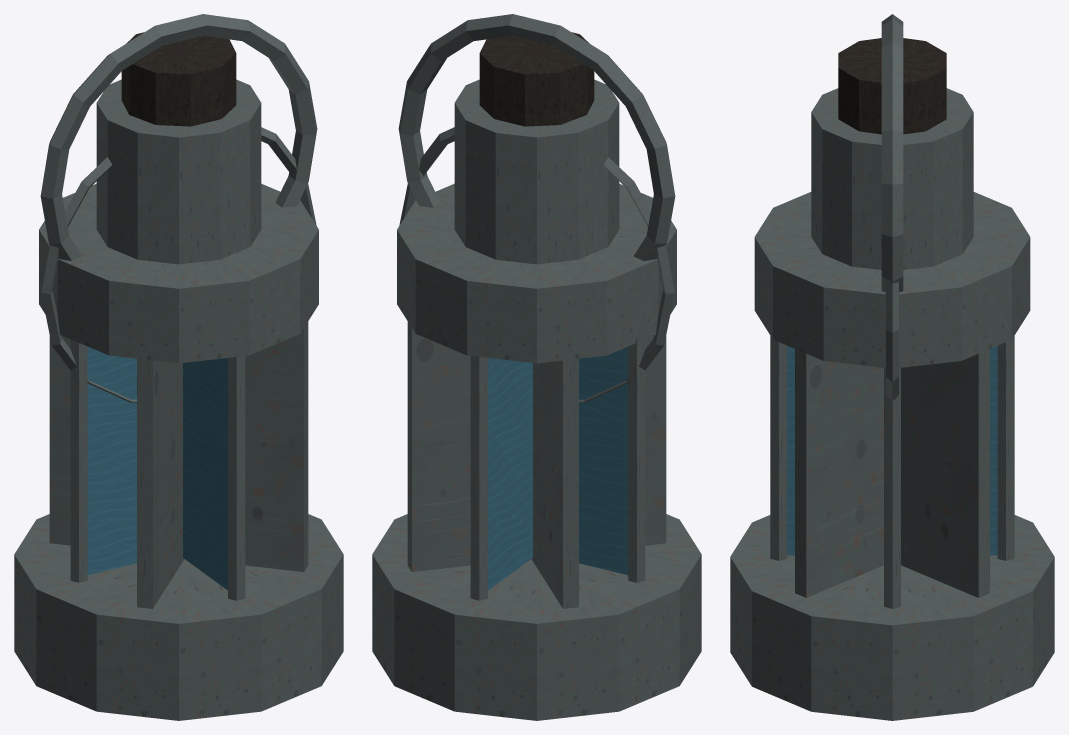
Rendered from pr-008_oil_lantern__off.obj.
3 views of the same model, side by side, from view 1: azimuth 30°, elevation 25°; view 2: azimuth 150°, elevation 25°; view 3: azimuth 270°, elevation 25° (orthographic).
Parts seen in each view (by area): view 1: pr-008_oil_lantern__off; view 2: pr-008_oil_lantern__off; view 3: pr-008_oil_lantern__off.
Boxes of the visible parts, x1,y1,x2,y2 form: pr-008_oil_lantern__off: (14, 14, 343, 720); pr-008_oil_lantern__off: (372, 14, 701, 720); pr-008_oil_lantern__off: (730, 14, 1054, 720).
Bounding box in the file's own units: 0.1797 × 0.38 × 0.1797.
3 materials, 3 textured.
